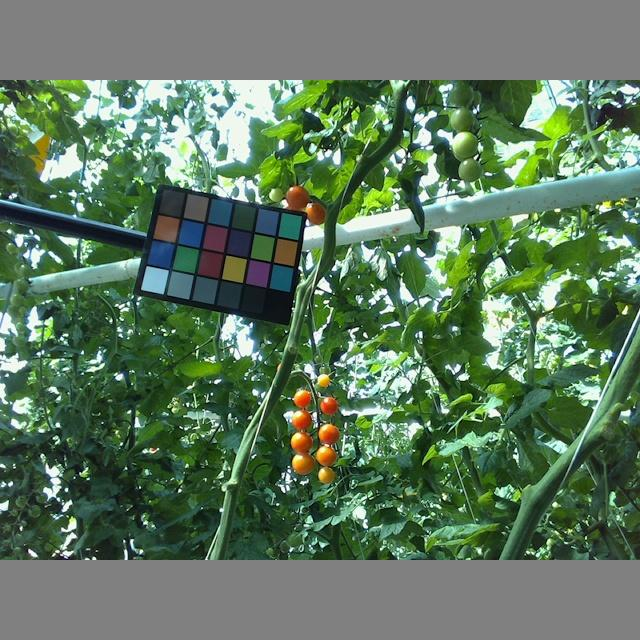green: (449, 130, 480, 160), (446, 106, 473, 133), (447, 83, 473, 109), (459, 156, 484, 182)
pink: (290, 452, 316, 477), (286, 181, 308, 209), (303, 199, 325, 224), (288, 409, 314, 430), (316, 394, 339, 416), (291, 430, 313, 452), (290, 386, 311, 409), (318, 422, 339, 443), (315, 445, 336, 466), (315, 467, 335, 485)
